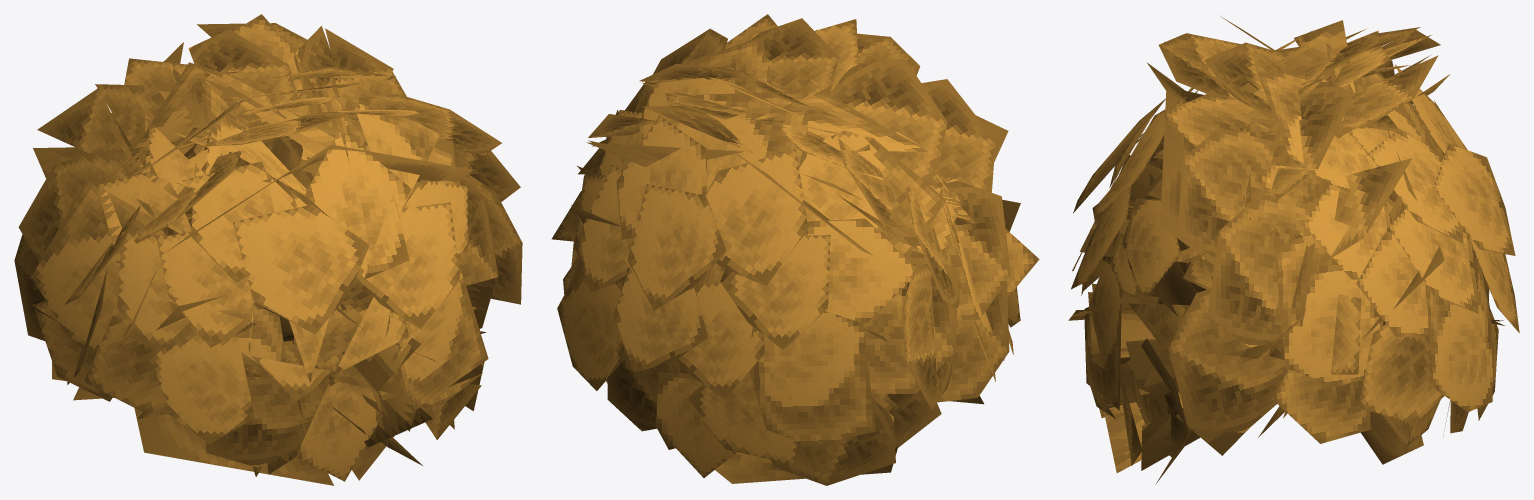
Rendered from bush-hydrangea-autumn.glb.
3 views of the same model, side by side, from view 1: azimuth 30°, elevation 25°; view 2: azimuth 150°, elevation 25°; view 3: azimuth 270°, elevation 25° (orthographic). The views are drawn at different scales.
Parts seen in each view (by area): view 1: bush-hydrangea-autumn; view 2: bush-hydrangea-autumn; view 3: bush-hydrangea-autumn.
Boxes of the visible parts, x1,y1,x2,y2 form: bush-hydrangea-autumn: (14, 14, 522, 485); bush-hydrangea-autumn: (551, 14, 1039, 485); bush-hydrangea-autumn: (1068, 16, 1519, 484).
Bounding box in the file's own units: 1.13 × 0.9575 × 0.9533.
1 material, 1 textured.
